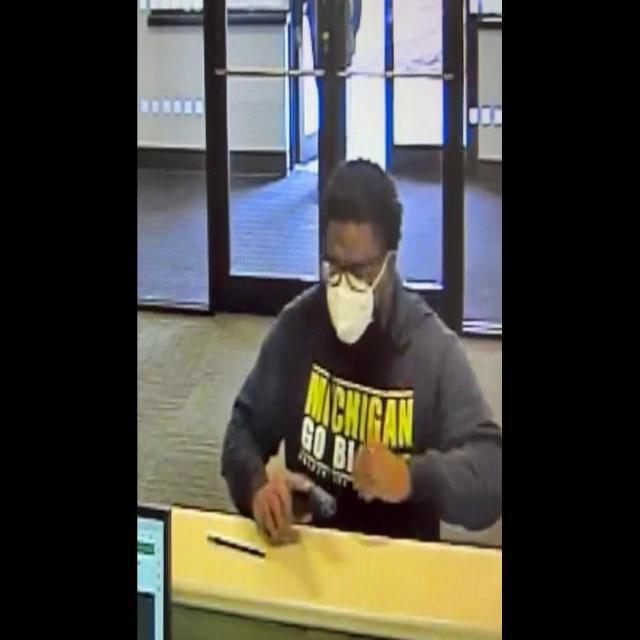pistol: (252, 471, 338, 540)
